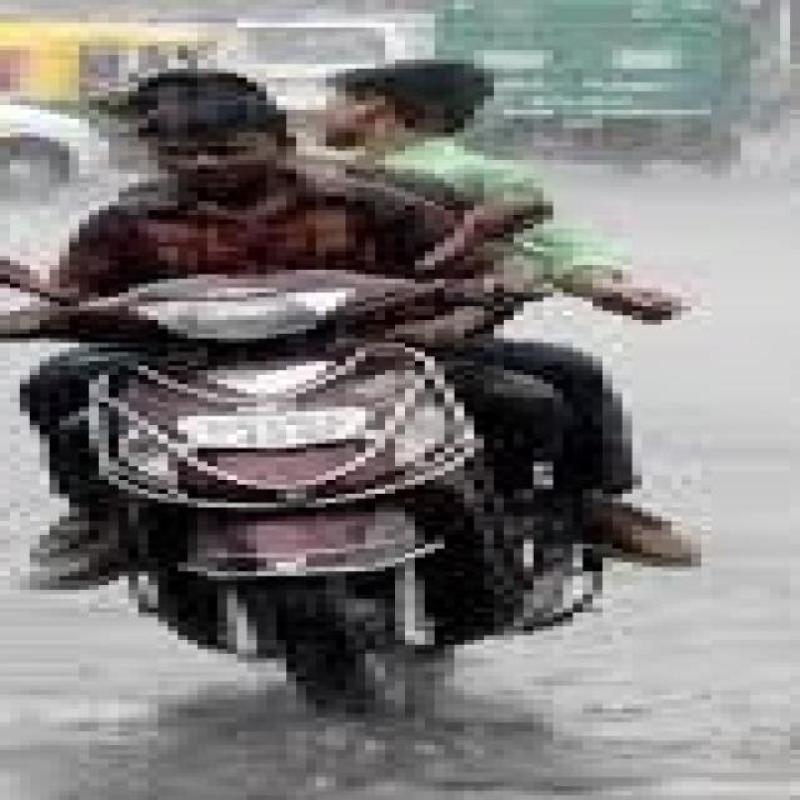nohelmet: (101, 72, 289, 193), (322, 54, 522, 164)
